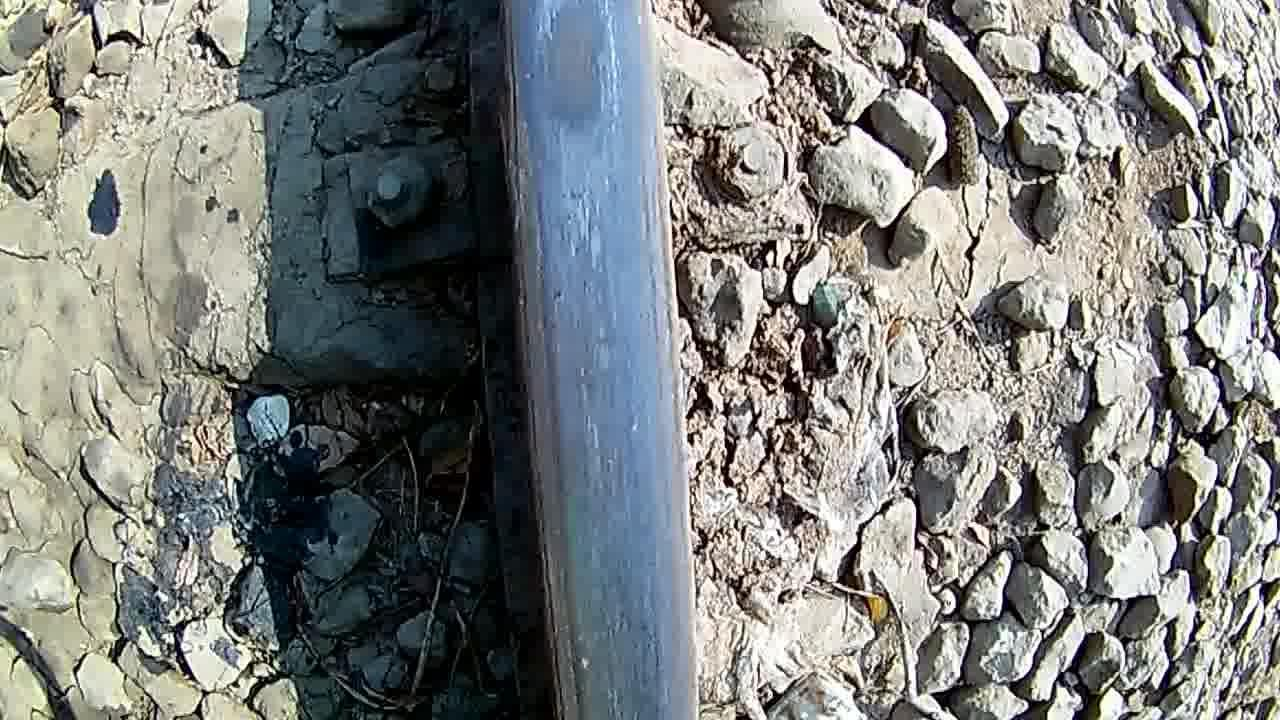crack: (498, 0, 658, 232)
